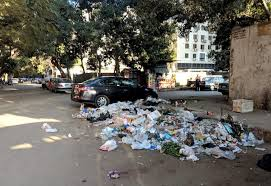garbage: (117, 110, 255, 158), (85, 106, 209, 136)
